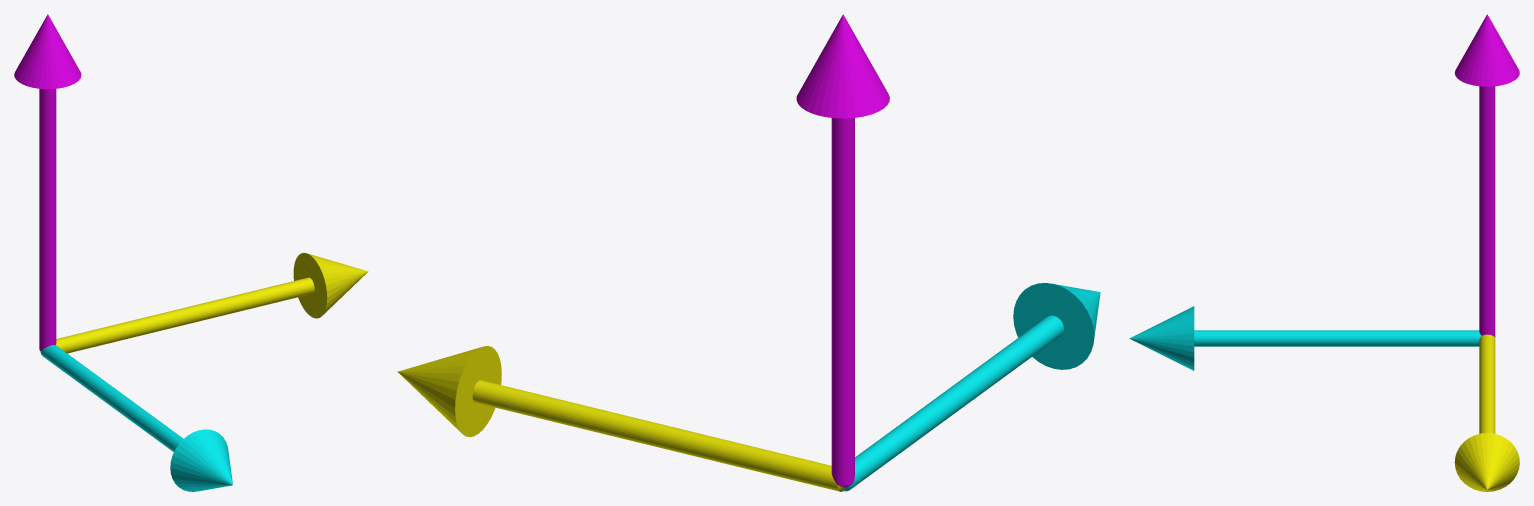
Rendered from Move.fbx.
3 views of the same model, side by side, from view 1: azimuth 30°, elevation 25°; view 2: azimuth 150°, elevation 25°; view 3: azimuth 270°, elevation 25° (orthographic). The views are drawn at different scales.
Visible parts, largest first — view 1: Cylinder, Cylinder.003, Cylinder.002; view 2: Cylinder, Cylinder.003, Cylinder.002; view 3: Cylinder.002, Cylinder, Cylinder.003.
Part boxes in pixels (box(x1,y1,x2,y2)): Cylinder: box(14, 14, 81, 351); Cylinder.003: box(56, 253, 368, 353); Cylinder.002: box(40, 345, 232, 491); Cylinder: box(796, 14, 889, 487); Cylinder.003: box(397, 346, 844, 491); Cylinder.002: box(843, 283, 1100, 491); Cylinder.002: box(1129, 306, 1481, 370); Cylinder: box(1455, 14, 1519, 337); Cylinder.003: box(1454, 334, 1519, 491).
Bounding box in the file's own units: 120 × 120 × 120.
